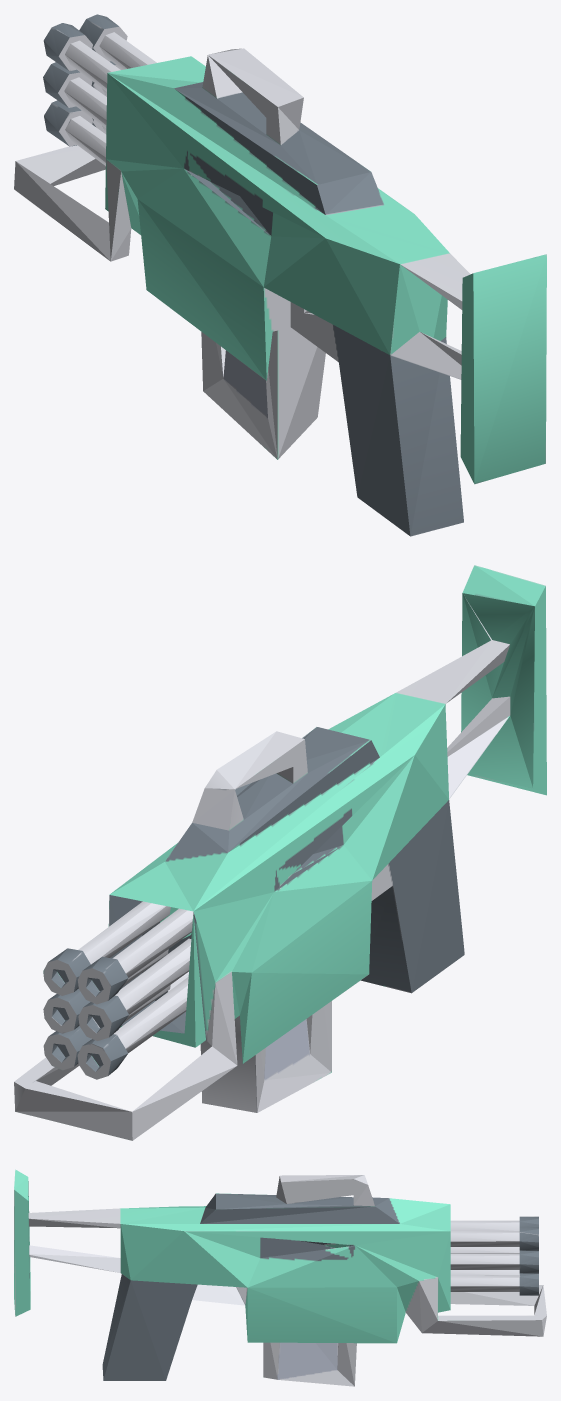
File: minigun 1.fbx
The picture shows the model from 3 angles, top to bottom: view 1: azimuth 30°, elevation 25°; view 2: azimuth 150°, elevation 25°; view 3: azimuth 270°, elevation 25°; orthographic projection. The views are drawn at different scales.
Visible parts, largest first — view 1: minigun; view 2: minigun; view 3: minigun.
Part boxes in pixels (x1,y1,x2,y2): minigun: [14, 14, 546, 536]; minigun: [14, 565, 546, 1140]; minigun: [14, 1169, 546, 1386].
Bounding box in the file's own units: 7.84 × 20.49 × 47.02.
